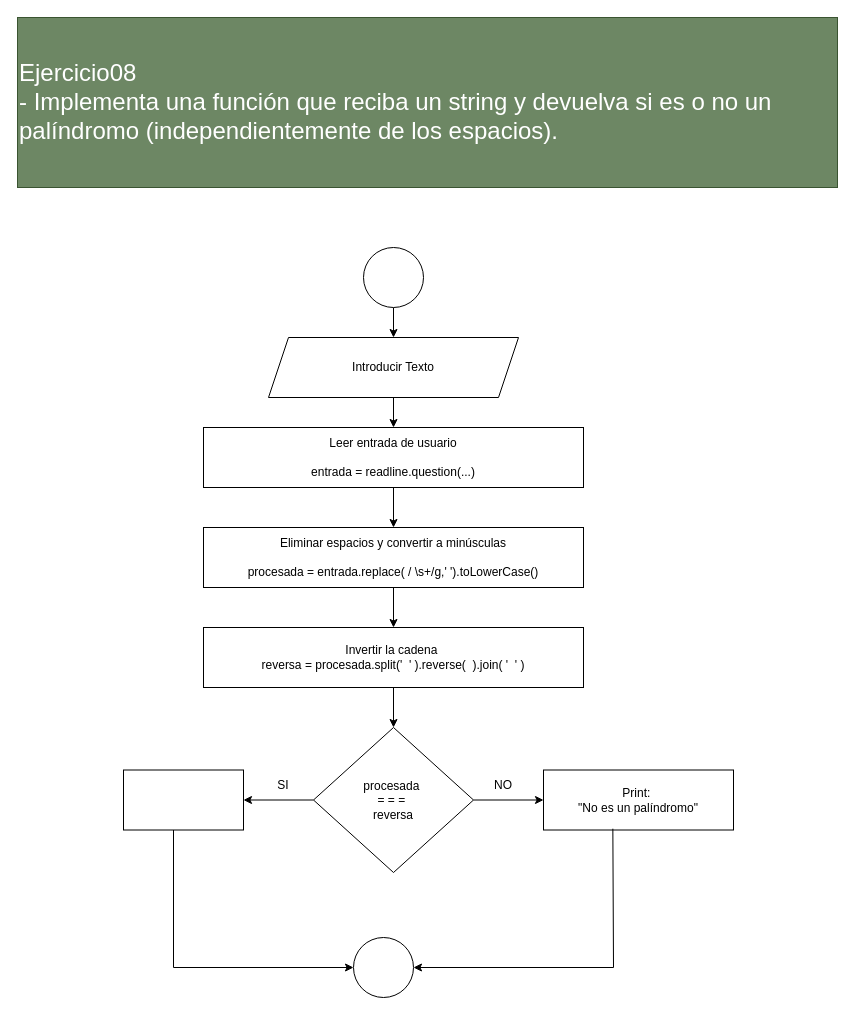
Some shapes in this 855 by 1015 pixel diagram are drawn without their labels. Here are the shapes that lost their labels. From the top down, the centre of each, then its label:
the point at 393,277: INICIO
the point at 183,799: Print: "Es un palíndromo"
the point at 383,967: FIN
